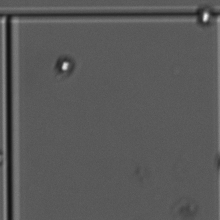Living Cell: (56, 59, 74, 74), (198, 9, 213, 26)
